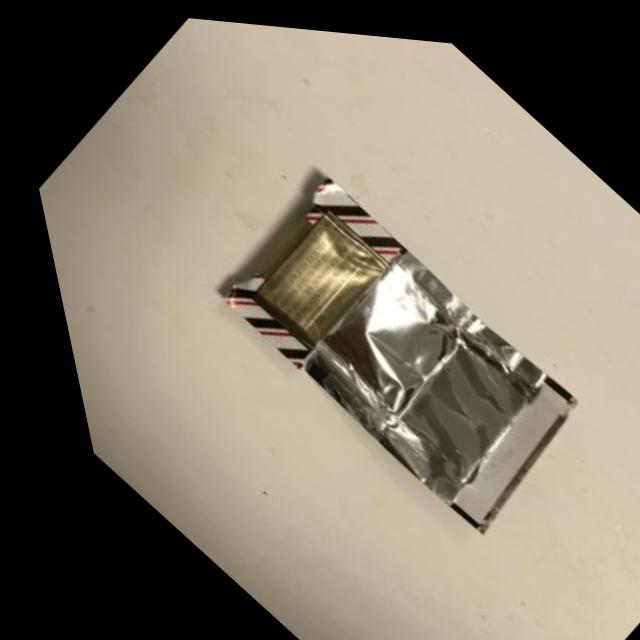trash: (84, 63, 640, 617)
